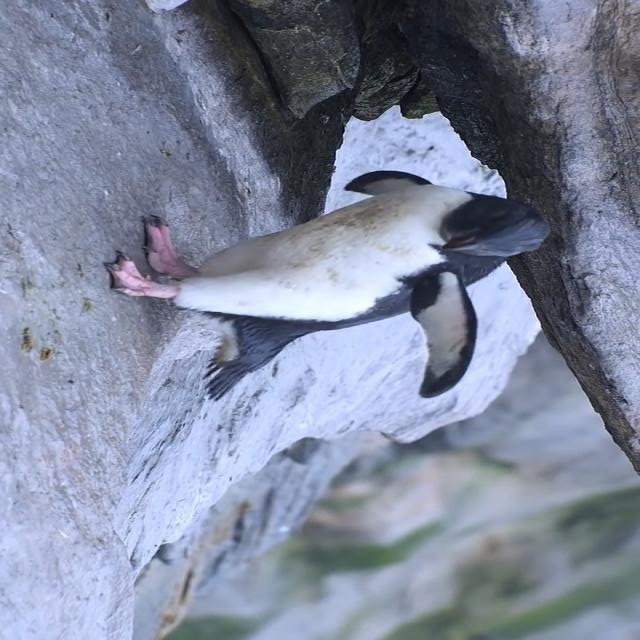penguin: (108, 169, 548, 400)
